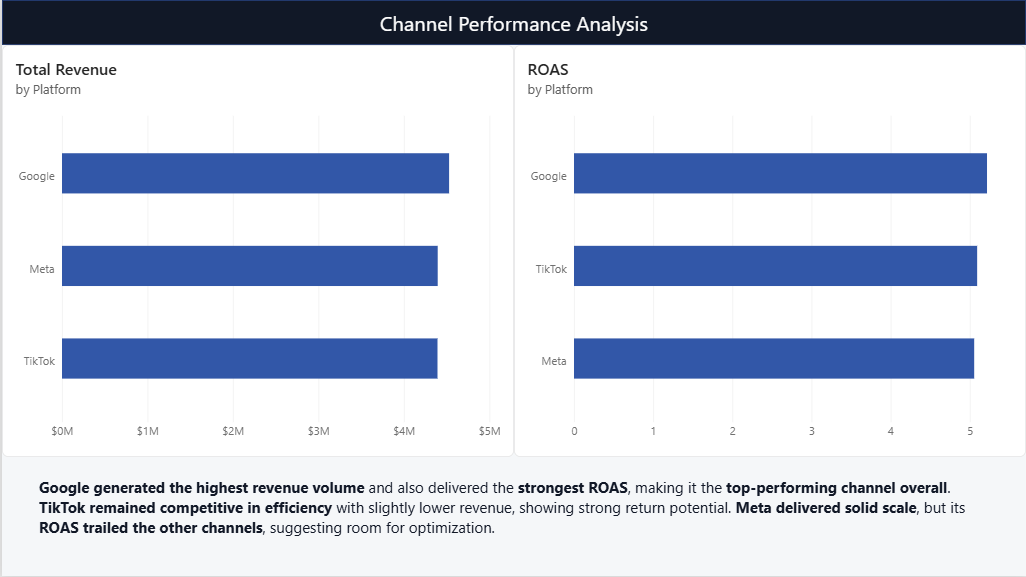

The page's visual inventory and layout, read from the dashboard file:
{"tool":"powerbi","page":{"name":"Channel Performance Analysis","canvas":[1280,720],"ordinal":2},"visuals":[{"type":"shape","box":[0,0,1280,56.2],"z":0},{"type":"barChart","fields":{"Category":["dim_platform.Platform"],"Y":["Formulas.Total Revenue"]},"box":[0,55.8,640.3,514.9],"z":1000},{"type":"barChart","fields":{"Category":["dim_platform.Platform"],"Y":["Formulas.ROAS"]},"box":[640.3,55.8,640.3,514.9],"z":2000},{"type":"textbox","box":[45.9,595.8,1188.2,82],"z":3000}]}

Visuals, with their boxes in screenshot pixels (x1, y1, x2, y2), scaled from the page's 1280x720 canvas onto the 1026x577 screenshot:
shape: left=0, top=0, right=1025, bottom=45
barChart - dim_platform.Platform x Formulas.Total Revenue: left=0, top=45, right=513, bottom=457
barChart - dim_platform.Platform x Formulas.ROAS: left=513, top=45, right=1025, bottom=457
textbox: left=37, top=477, right=989, bottom=543
